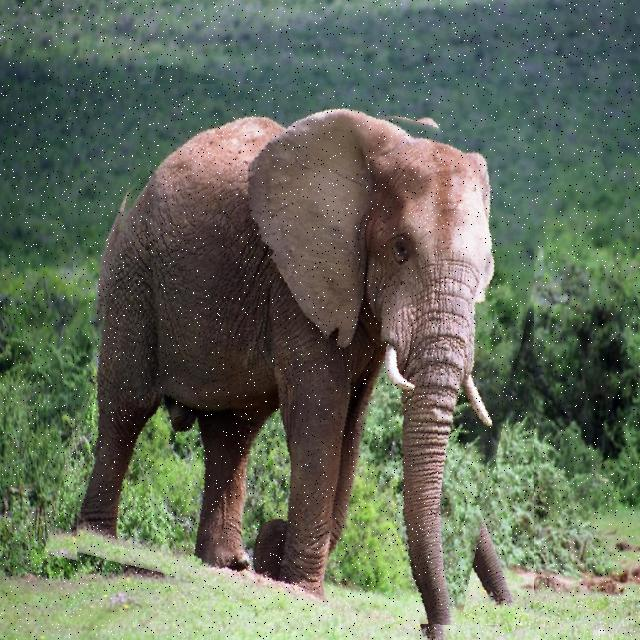elephant: (70, 84, 534, 626)
